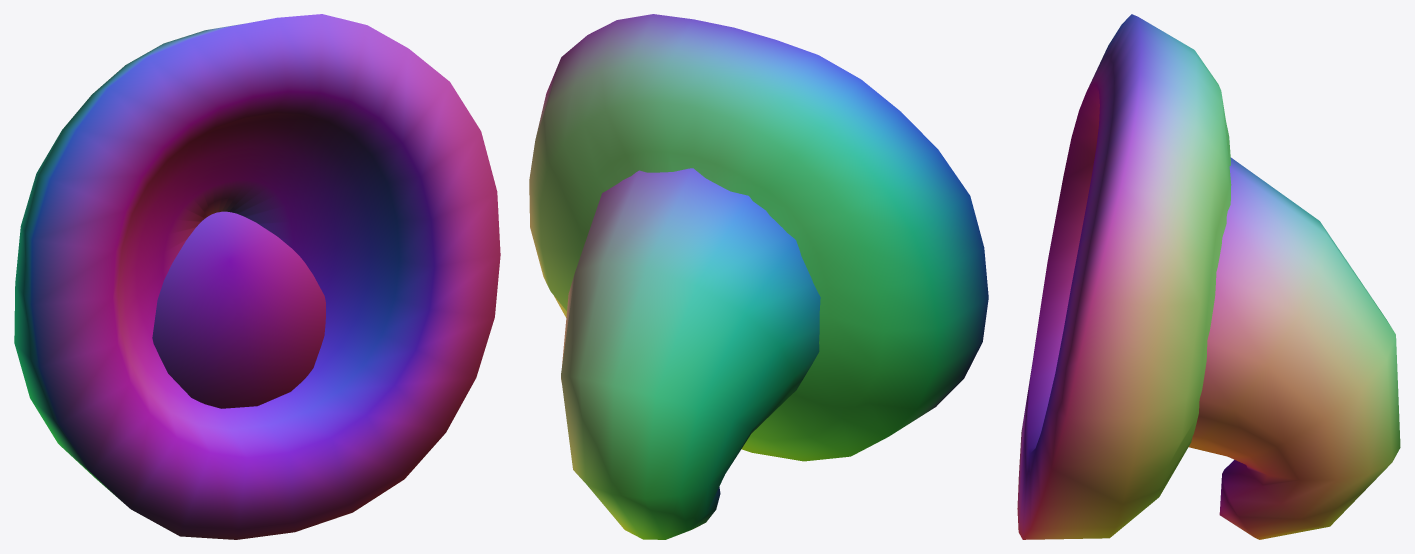
The model's file is SM_Mon_Goblin_Att_RedCap.fbx.
The picture shows the model from 3 angles, left to right: view 1: azimuth 30°, elevation 25°; view 2: azimuth 150°, elevation 25°; view 3: azimuth 270°, elevation 25°; orthographic projection. The views are drawn at different scales.
Visible parts, largest first — view 1: SM_Mon_Goblin_Att_RedCap; view 2: SM_Mon_Goblin_Att_RedCap; view 3: SM_Mon_Goblin_Att_RedCap.
Boxes of the visible parts, bbox=[...] form: SM_Mon_Goblin_Att_RedCap: bbox=[14, 14, 500, 539]; SM_Mon_Goblin_Att_RedCap: bbox=[529, 14, 988, 539]; SM_Mon_Goblin_Att_RedCap: bbox=[1017, 14, 1400, 539].
Size of the model in its own units: 0.2964 by 0.2966 by 0.212.
